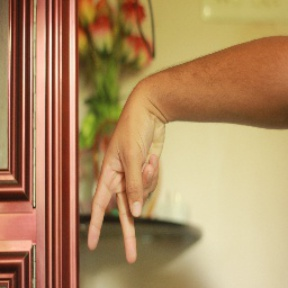Y: (85, 104, 165, 266)
